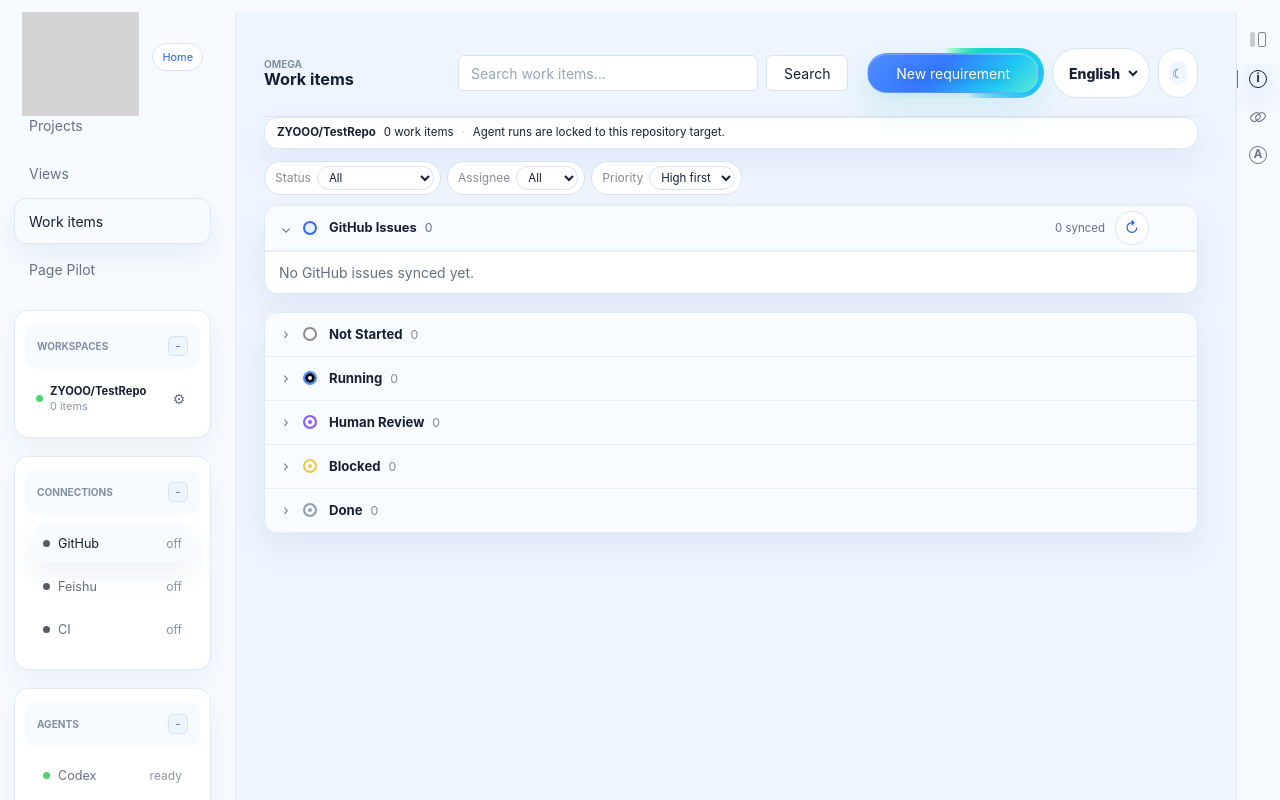
Test case: App operator view › finishes requirement creation before slow control-plane refresh completes
Click the button "New requirement". click: coordinates (953, 73)
box: left=862, top=48, right=1044, bottom=98
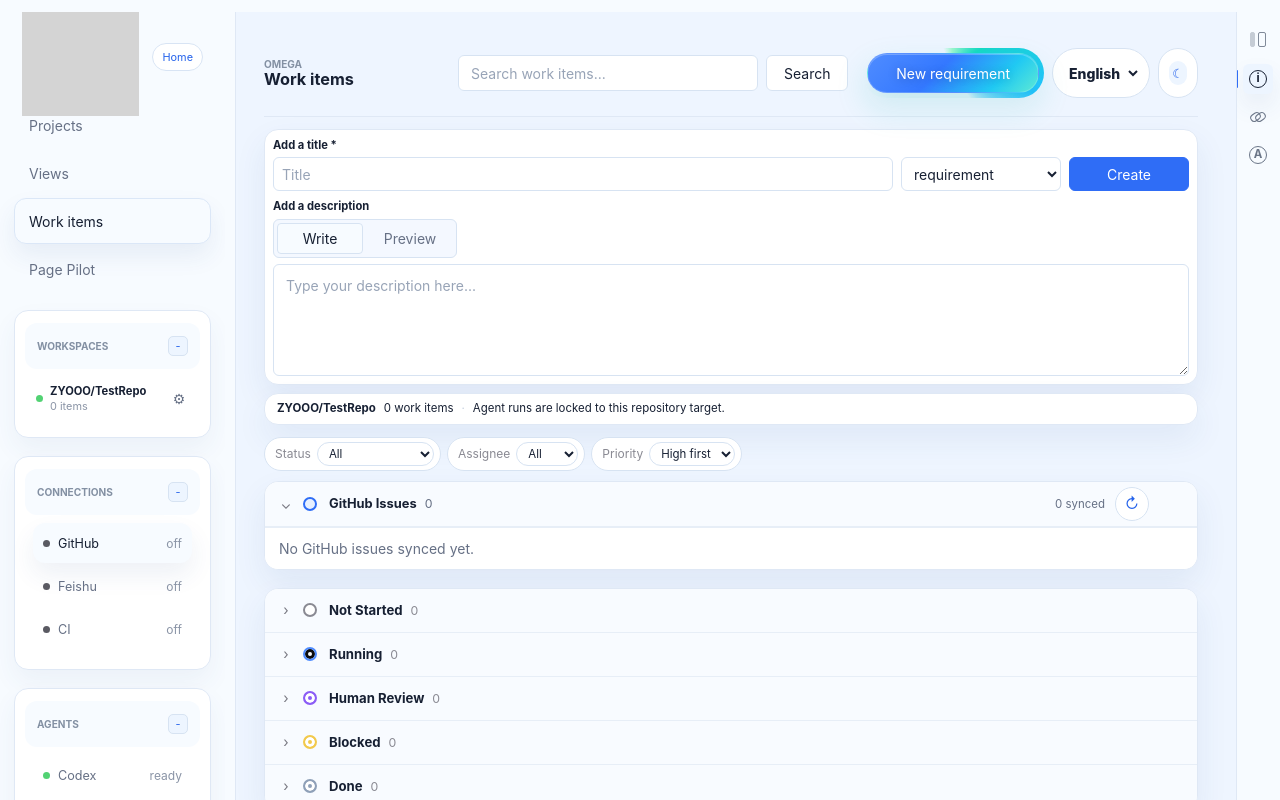
Type "Quick create requirement" into the field with placeholder "title". click: coordinates (583, 174)
box: left=273, top=157, right=893, bottom=191
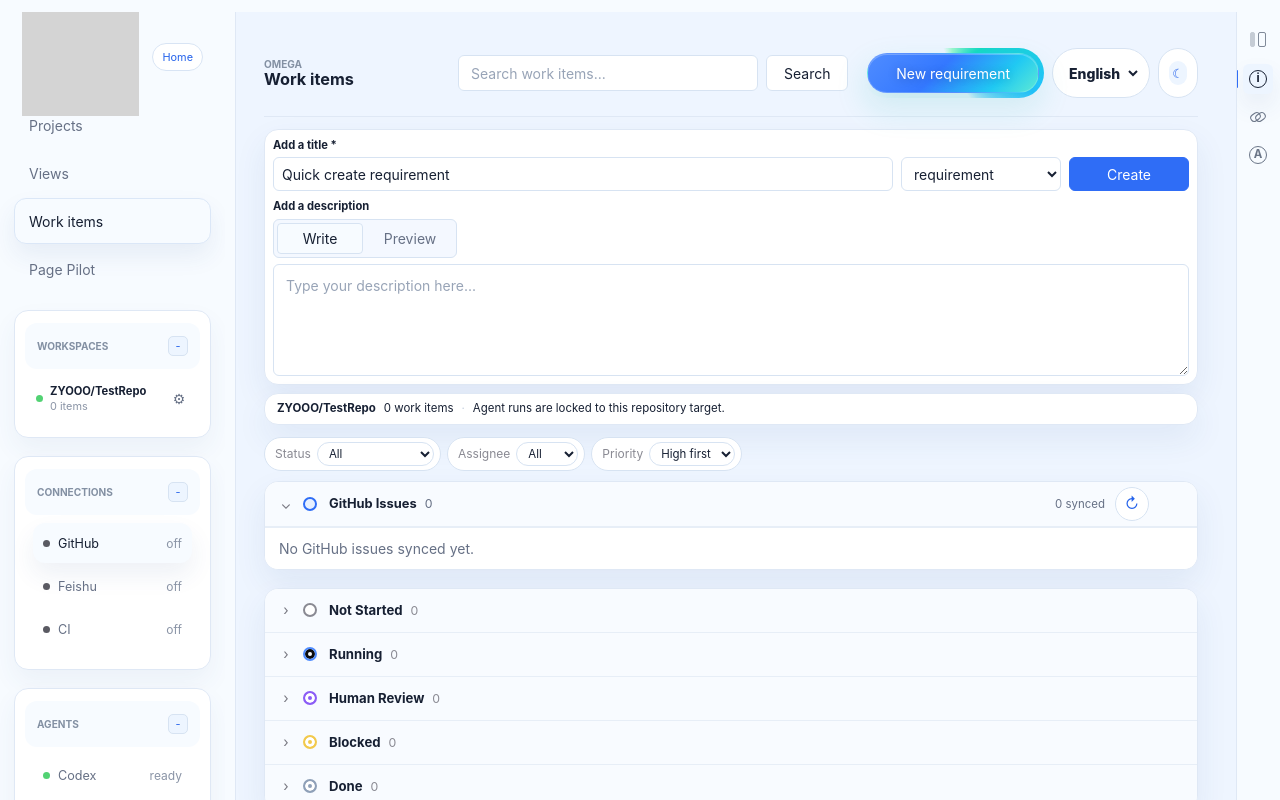
Type "Create should not wait for metrics refresh." into the text box with placeholder "Type your description here...". click: coordinates (731, 320)
box: left=273, top=264, right=1189, bottom=376
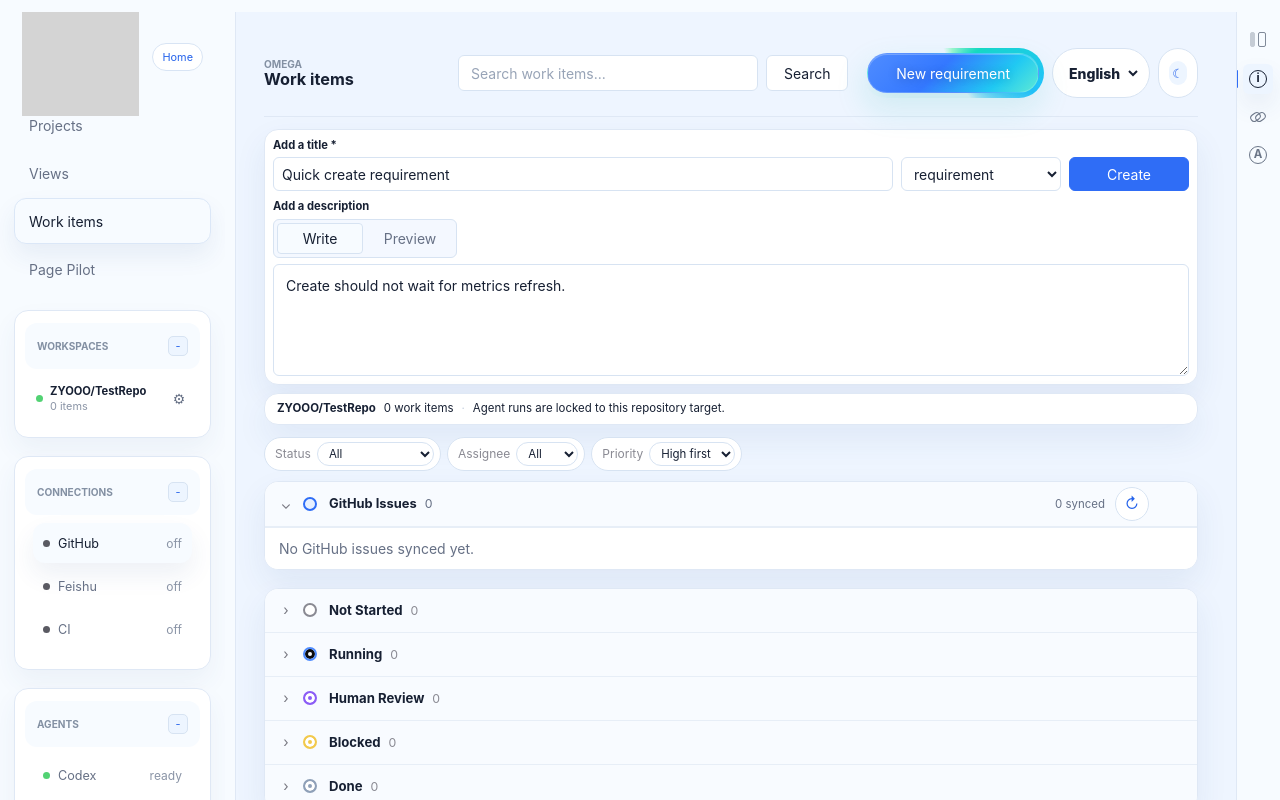
Click the button "Create". click: coordinates (1129, 174)
box: left=1069, top=157, right=1189, bottom=191
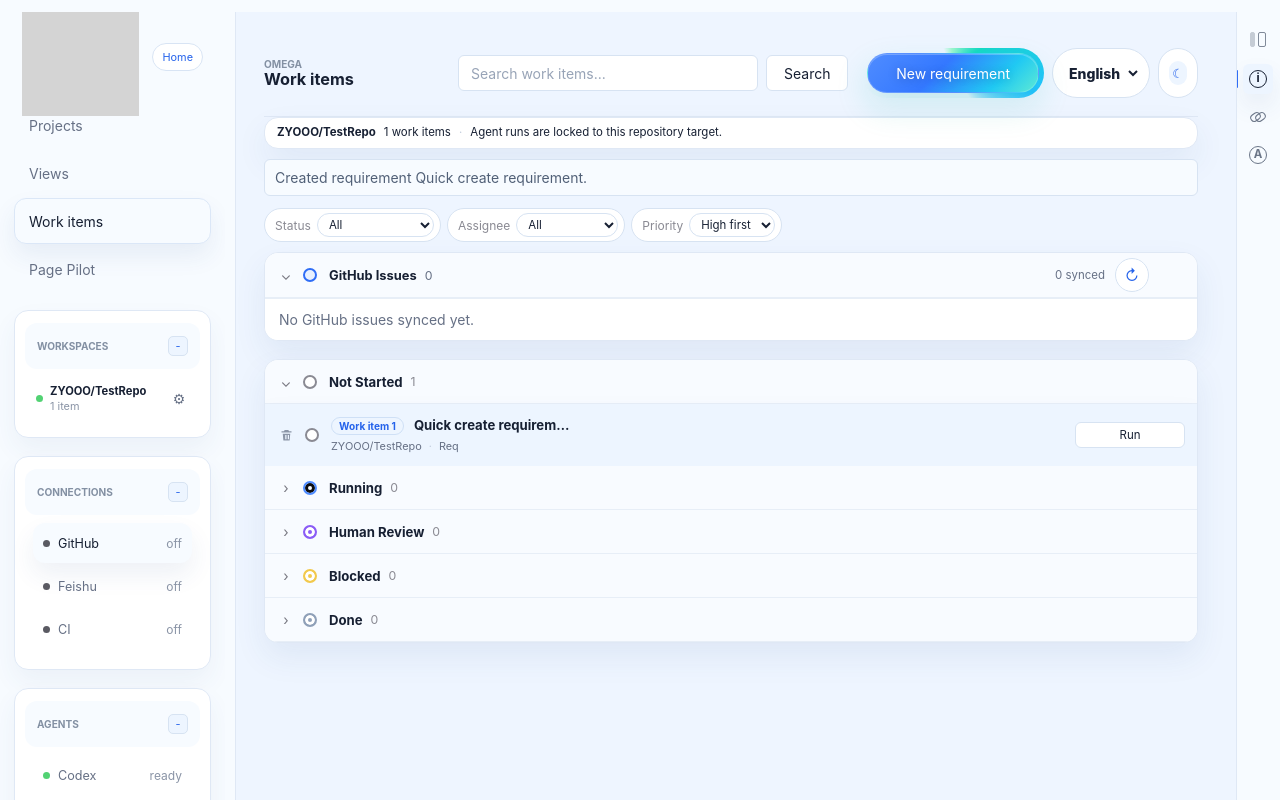
Result: the text "Quick create requirement" is shown at left=414, top=417, right=576, bottom=434
